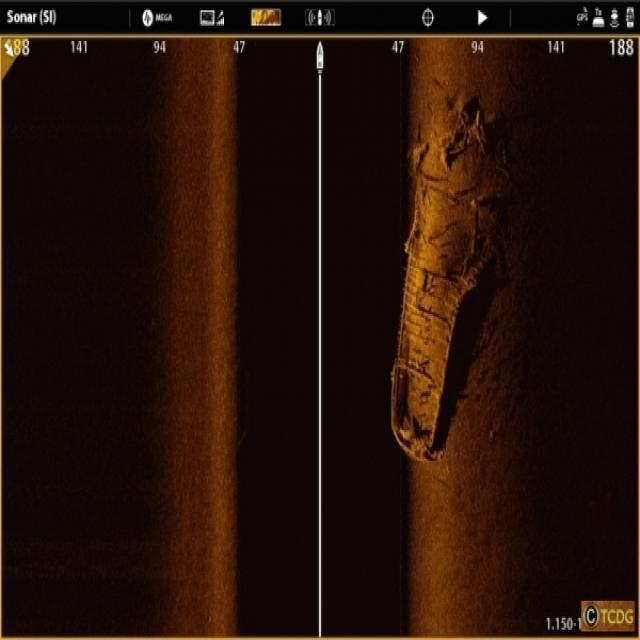ship: (391, 97, 493, 461)
